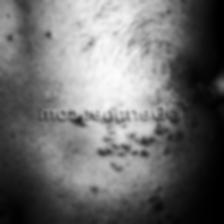Toxin: (85, 122, 199, 166), (136, 183, 190, 224), (0, 26, 21, 98), (0, 184, 13, 224)
